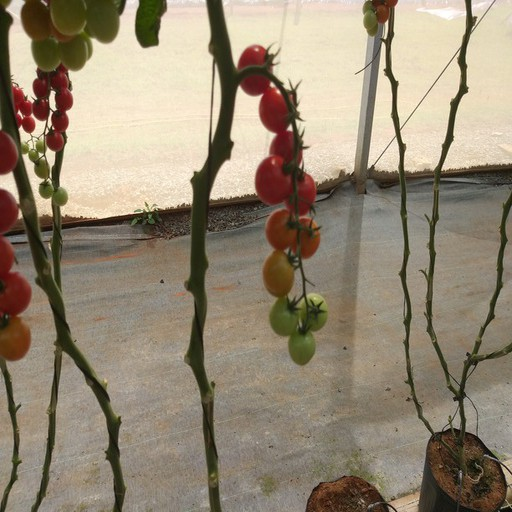green tomato bunch: (20, 1, 118, 72), (358, 1, 399, 36)
red tomato bunch: (236, 44, 329, 365), (1, 132, 38, 362), (32, 64, 73, 150), (6, 78, 34, 133)
